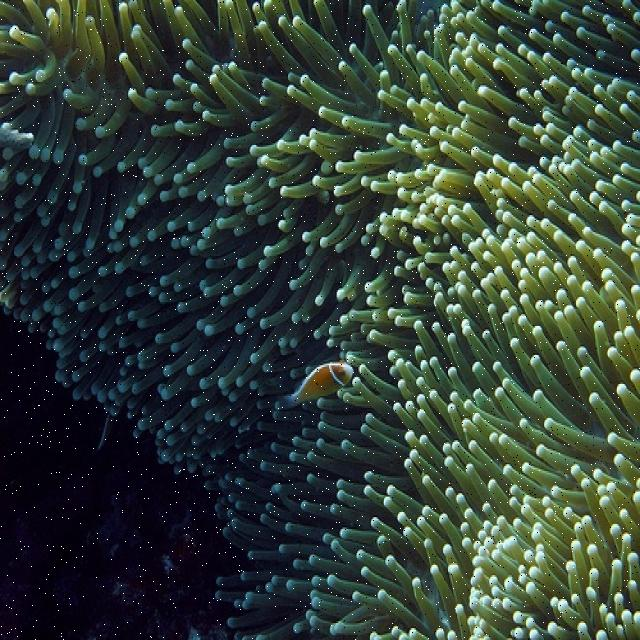fish: (277, 363, 355, 411)
reefs: (0, 6, 639, 640)
